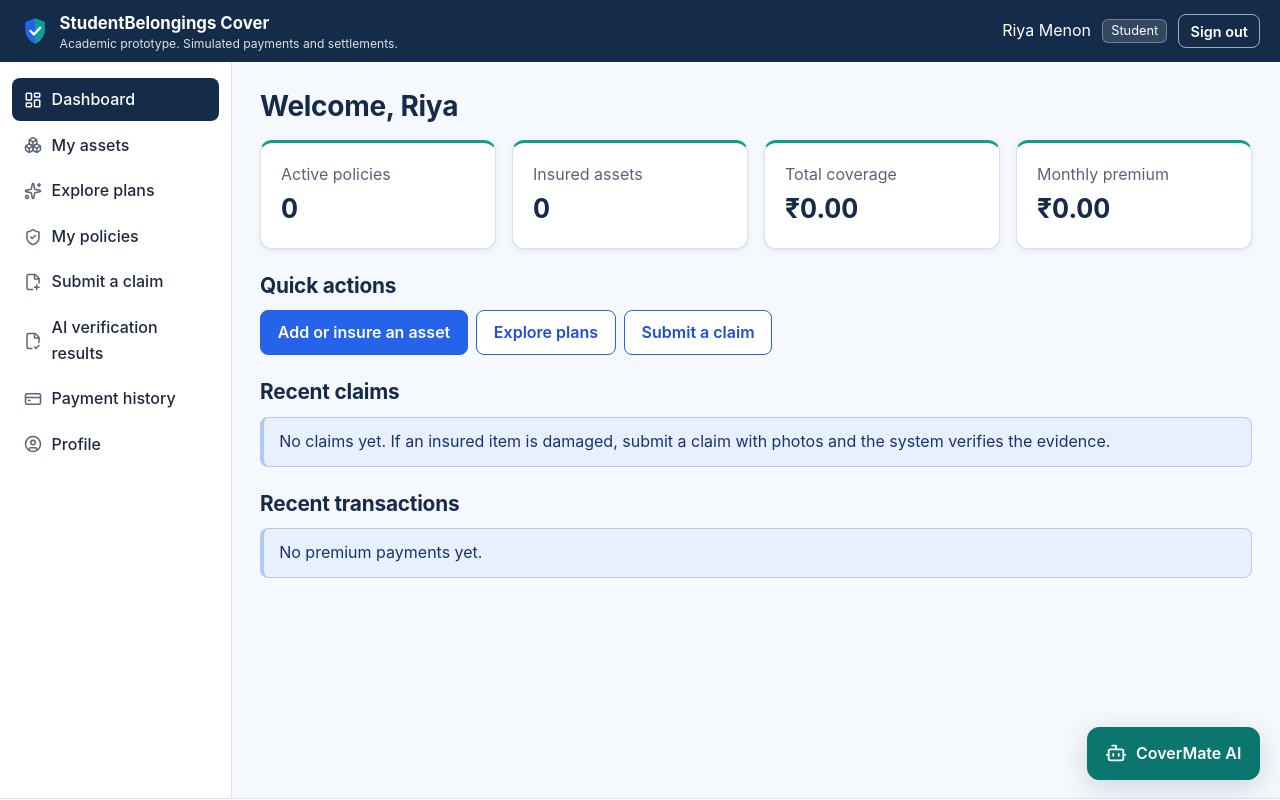
Test: CoverMate AI widget › disables input and shows the unavailable message when the status endpoint says it is not configured
Click the button with aria-label "Open CoverMate AI chat" at (1173, 753), box [1087,727,1260,780]
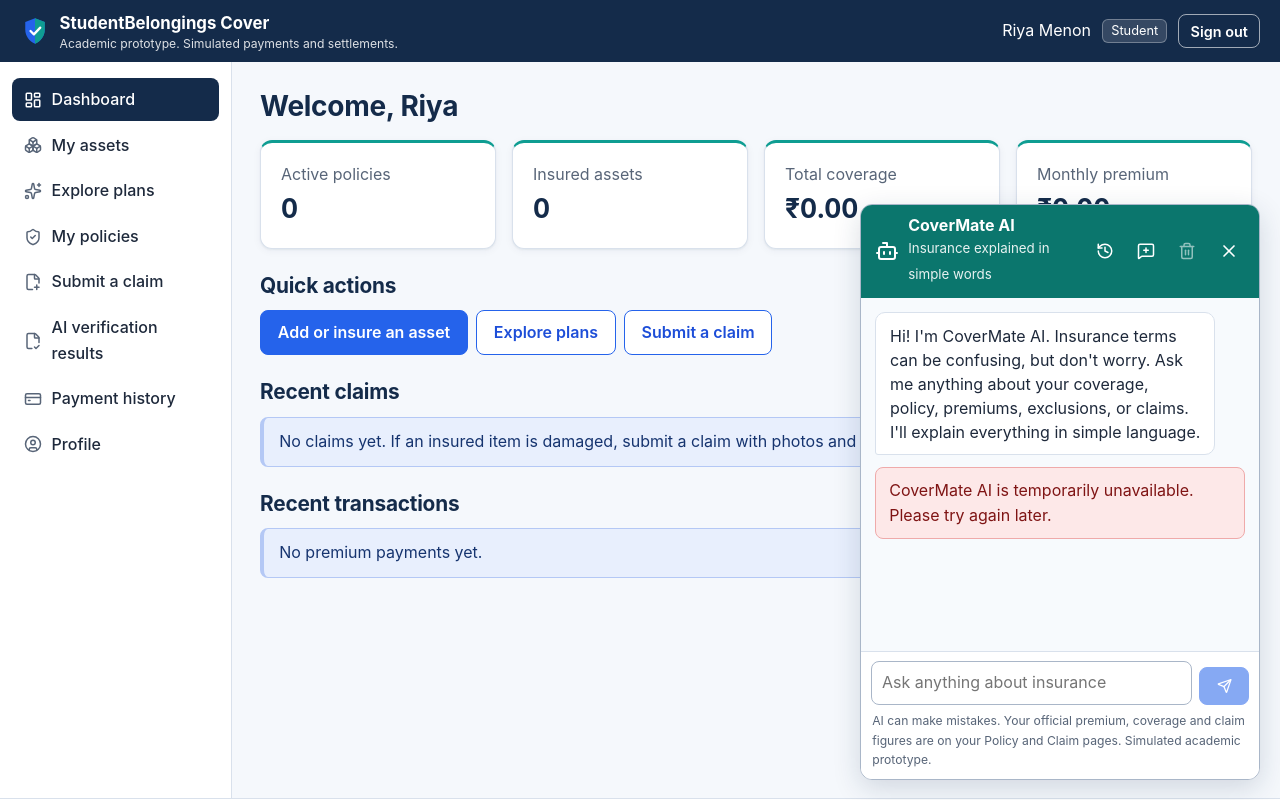
Expected: the message reads "CoverMate AI is temporarily unavailable. Please try again later.", [889,480,1194,525]
Expected: the text box named "Your question" is disabled, [871,661,1192,705]
